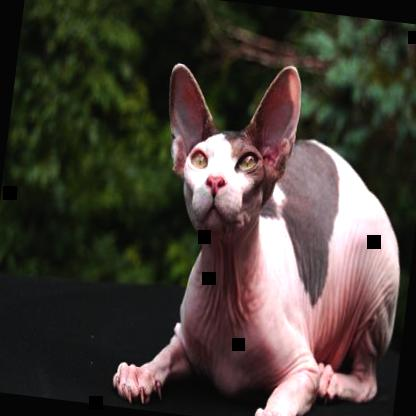cat: (107, 47, 415, 415)
